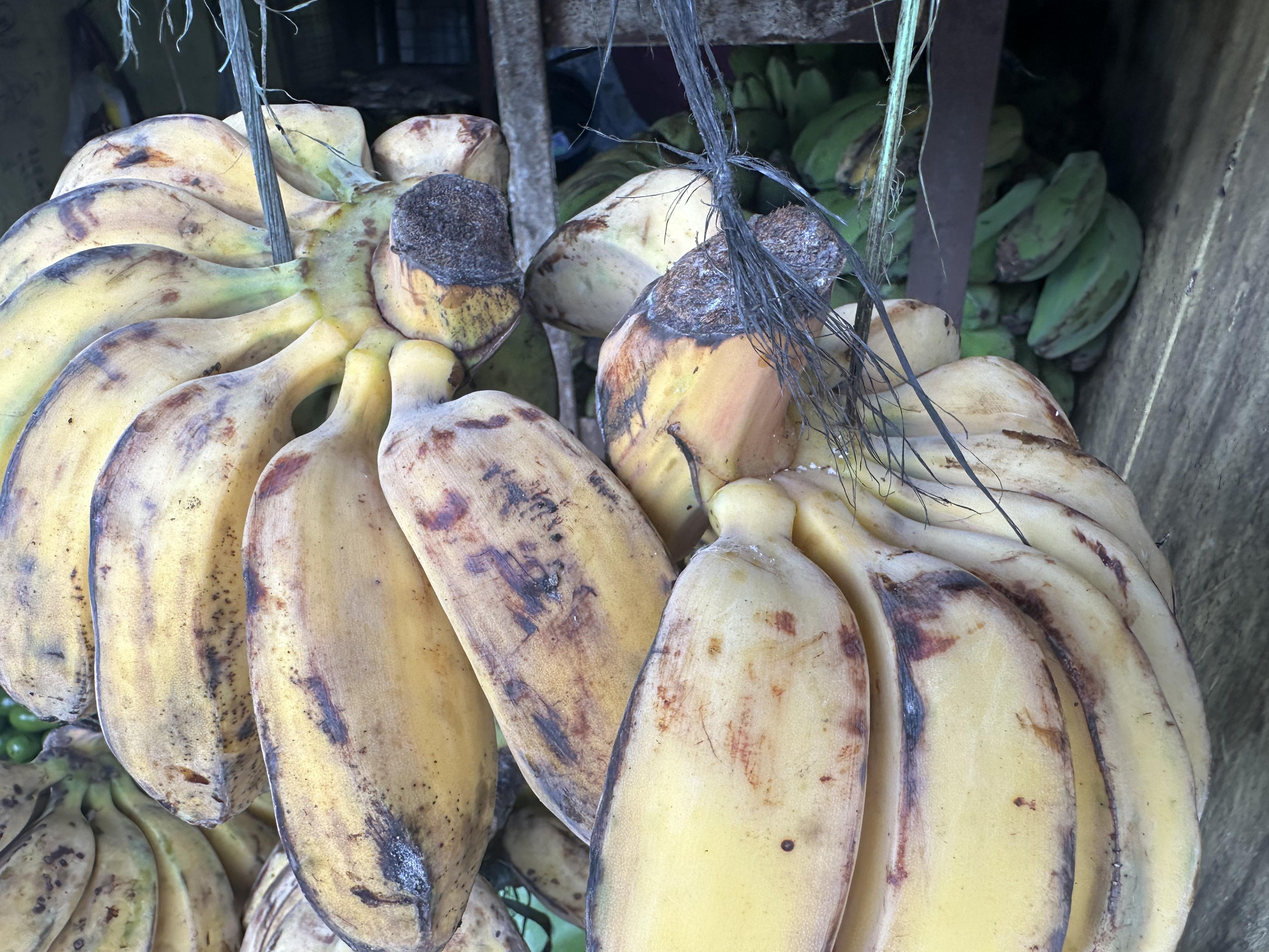ripe: (0, 115, 674, 949), (586, 300, 1210, 952), (0, 765, 277, 952), (264, 103, 509, 193)
